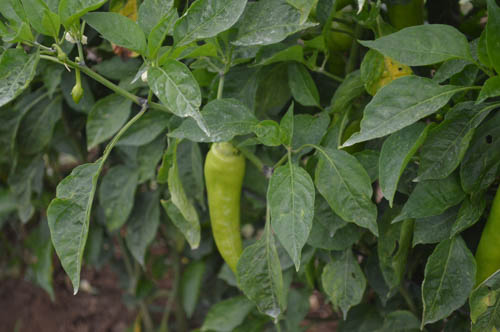ChiliPepper: (205, 149, 247, 287)
